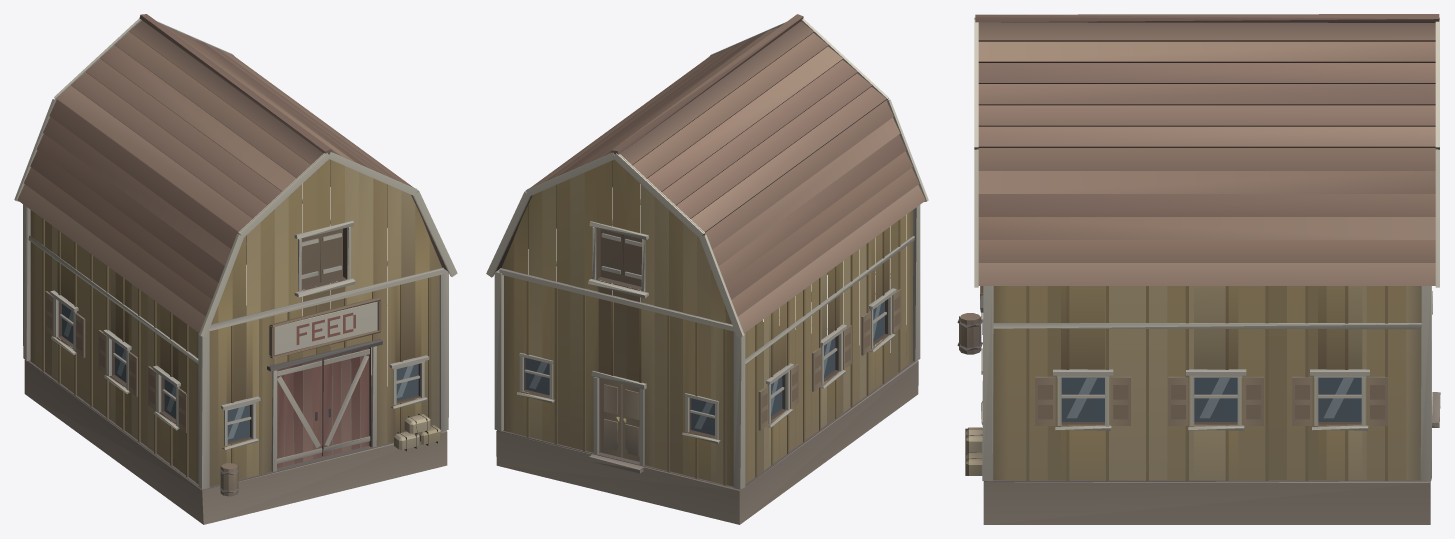
File: house_10.lod1.glb
3 views of the same model, side by side, from view 1: azimuth 30°, elevation 25°; view 2: azimuth 150°, elevation 25°; view 3: azimuth 270°, elevation 25° (orthographic). The views are drawn at different scales.
Bounding box in the file's own units: 8.38 × 10.84 × 10.91.
